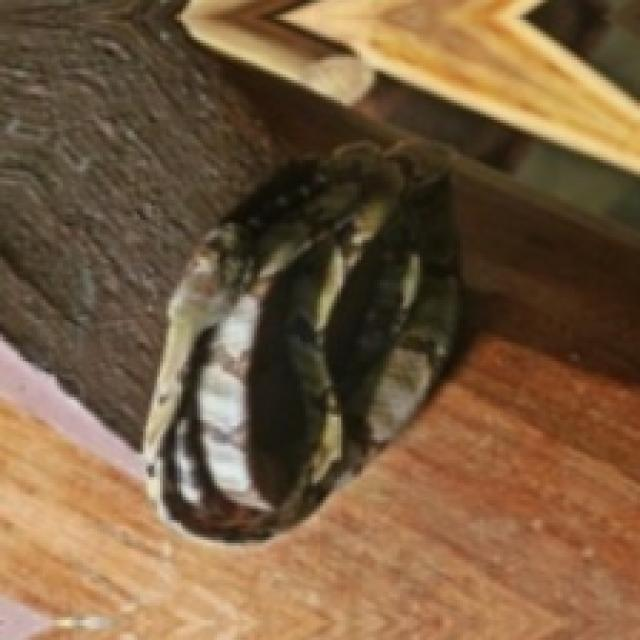dog-toothed cat snake: (143, 140, 457, 537)
